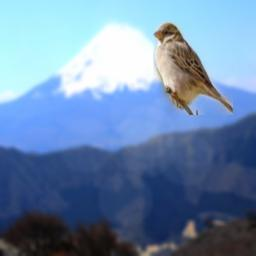Sparrow: (153, 22, 233, 115)
